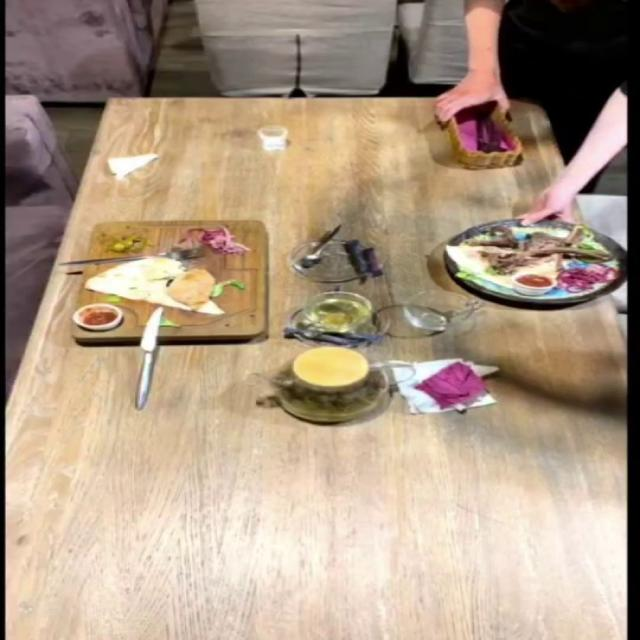meat: (468, 190, 604, 332)
tea: (263, 350, 423, 434)
